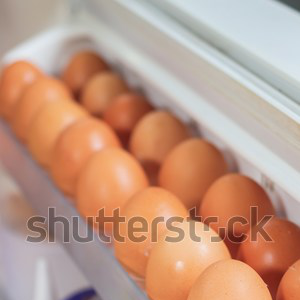egg: (2, 50, 300, 298)
